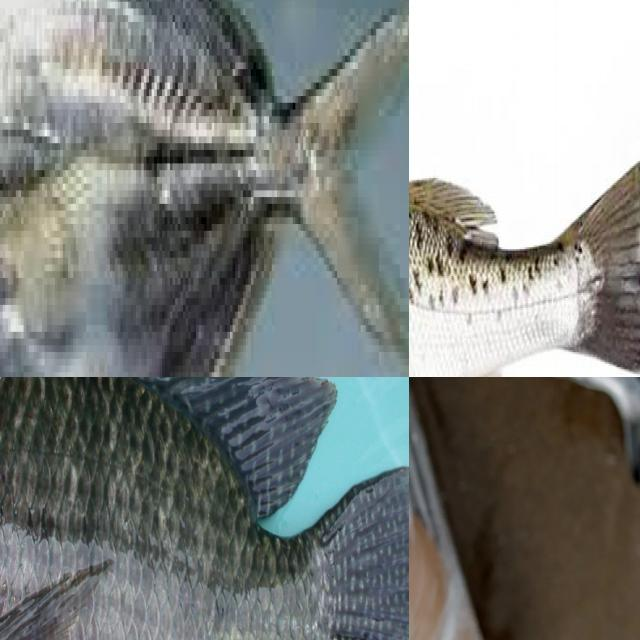fish: (0, 1, 409, 377), (409, 78, 640, 377), (409, 377, 584, 640)
